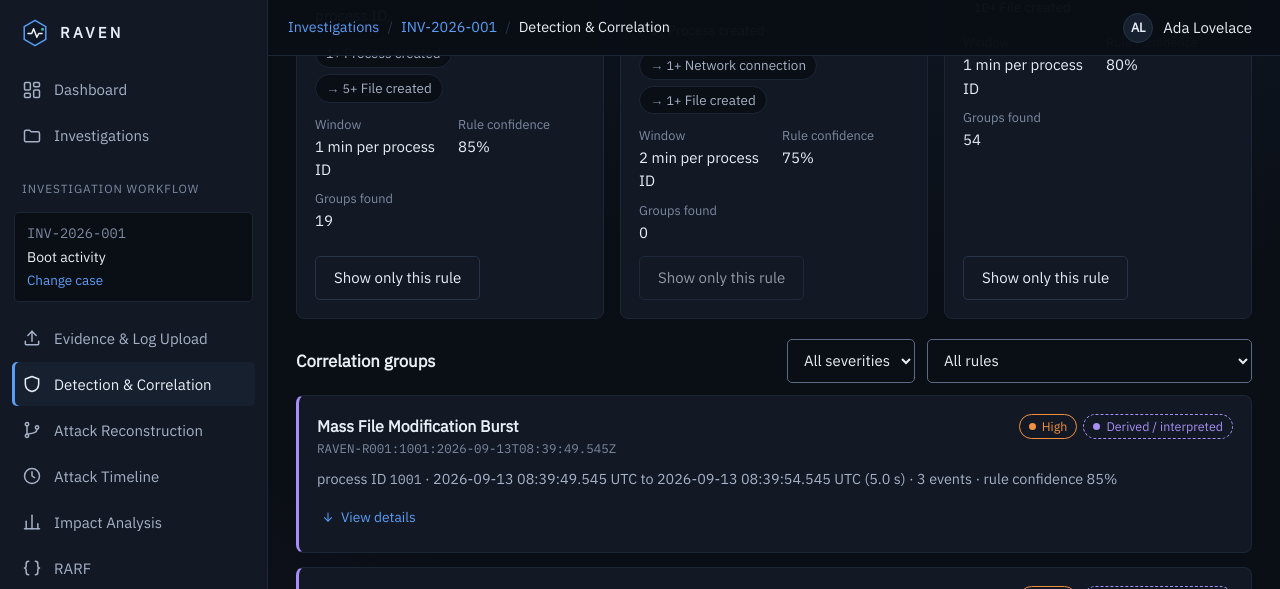
it: Detection: groups › says so when no group matches the filters
(page scrolled)
Select "Low" in the dropdown named "Filter by severity" at (851, 361), box [787,339,915,383]
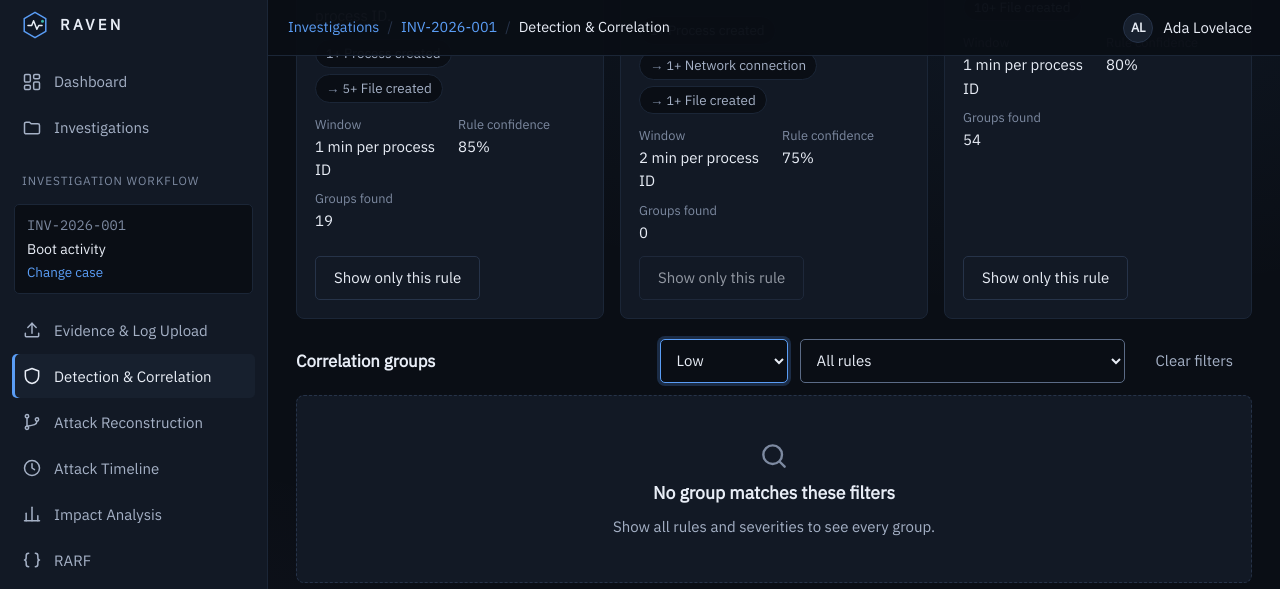
expect the heading "No group matches these filters" is shown: met, box [653,482,895,505]
